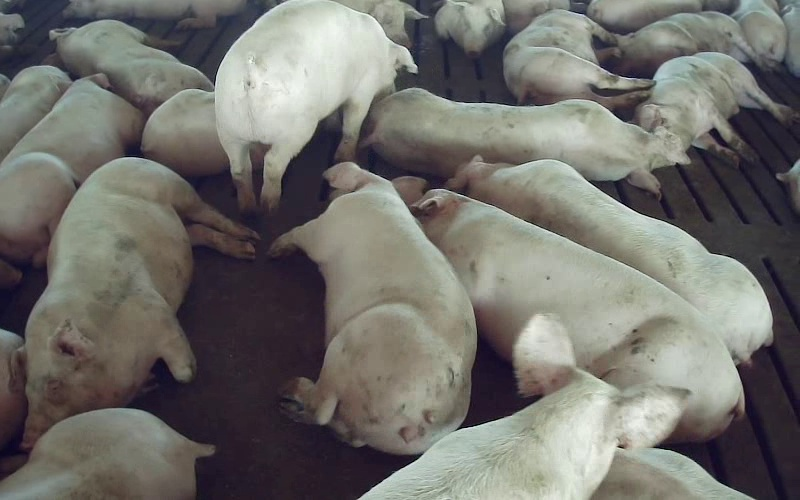pig: (412, 190, 742, 440), (447, 157, 772, 363), (361, 314, 688, 499), (362, 88, 689, 194), (0, 73, 144, 265), (635, 52, 799, 165), (44, 20, 213, 115), (504, 9, 653, 109), (604, 12, 757, 77), (0, 65, 71, 161), (63, 0, 245, 27), (434, 0, 505, 58), (586, 0, 701, 33), (732, 0, 786, 68)
